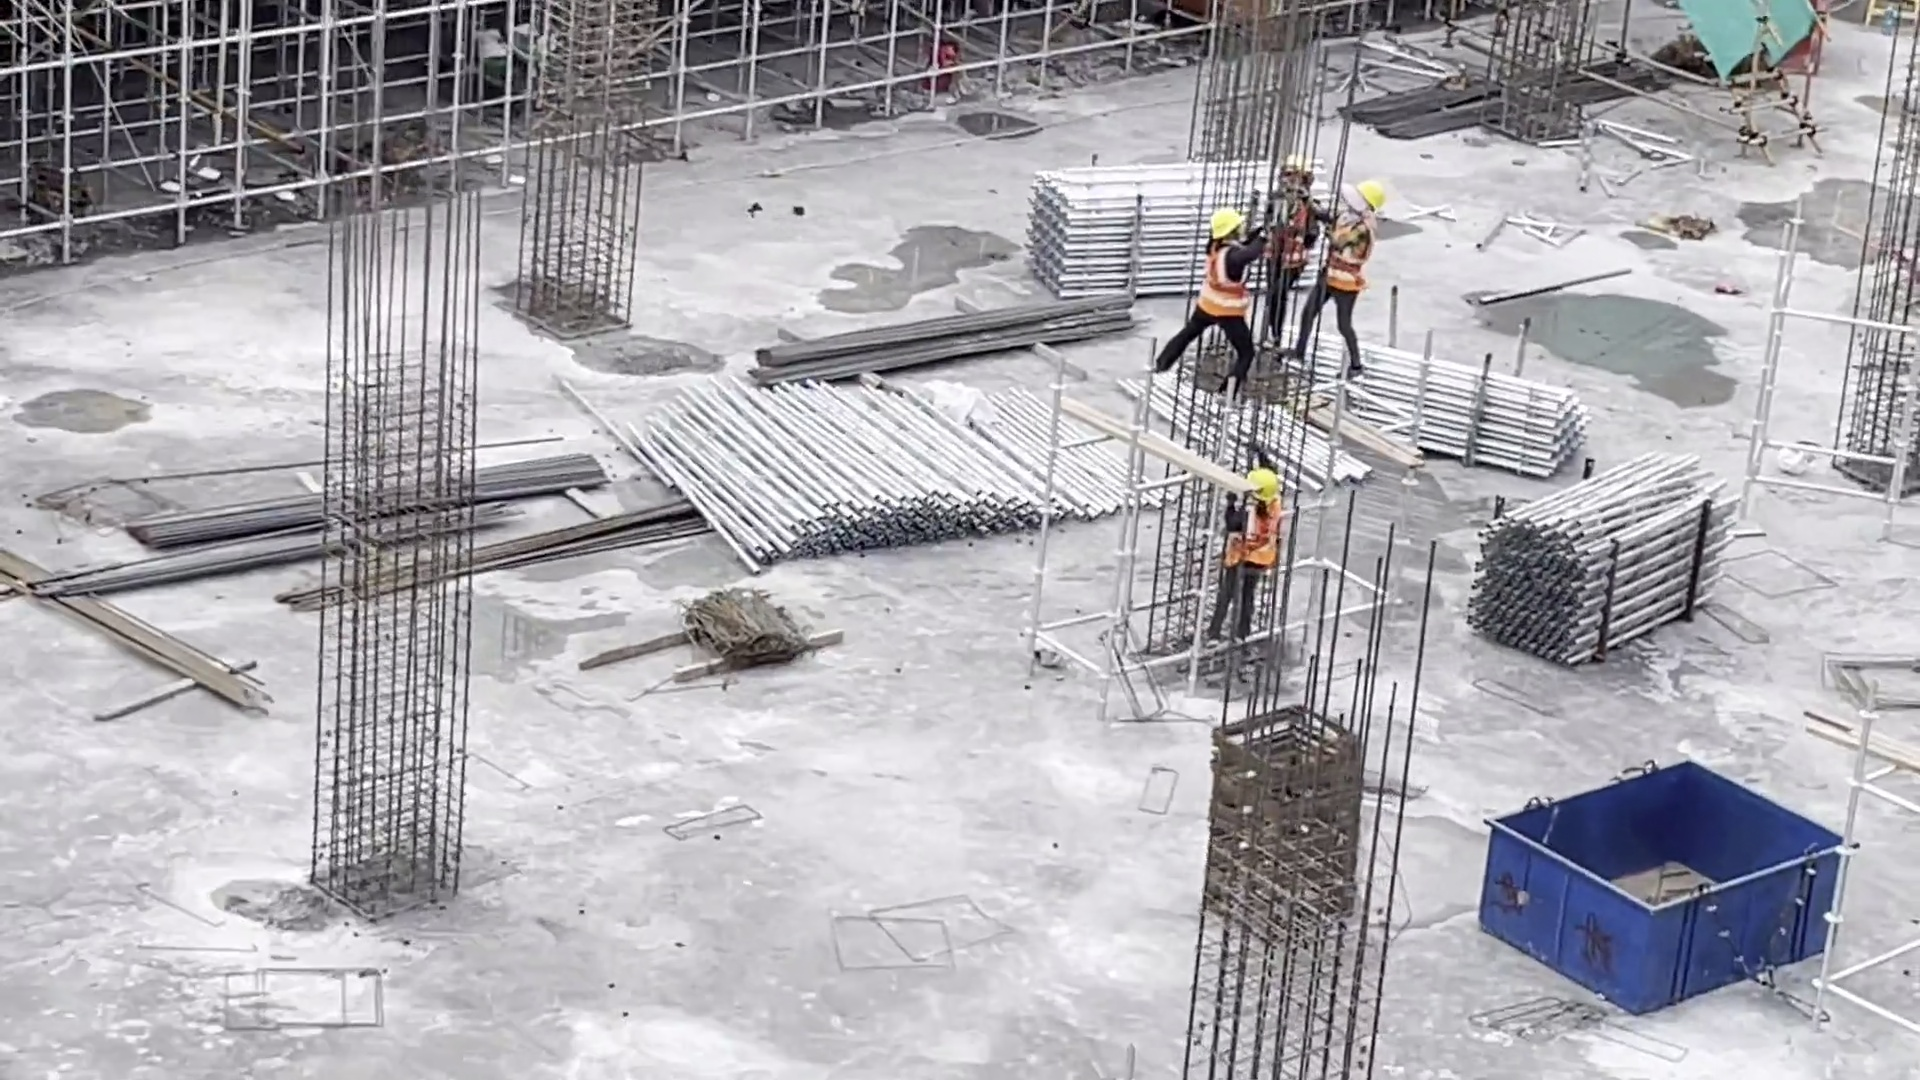helmet: (1203, 213, 1247, 242), (1355, 179, 1391, 215), (1243, 467, 1280, 495), (1280, 152, 1315, 179)
hopper: (1466, 754, 1844, 1015)
person: (1319, 181, 1391, 383), (1191, 212, 1259, 386), (1210, 465, 1273, 630), (1262, 153, 1312, 330)
rebar: (277, 501, 711, 630), (111, 432, 601, 500)
scaffold: (619, 363, 1143, 560), (1457, 449, 1735, 668), (1276, 335, 1587, 480), (1015, 160, 1304, 302)
vest: (1323, 215, 1371, 297), (1201, 254, 1249, 328), (1230, 494, 1275, 571), (1267, 193, 1315, 263)
